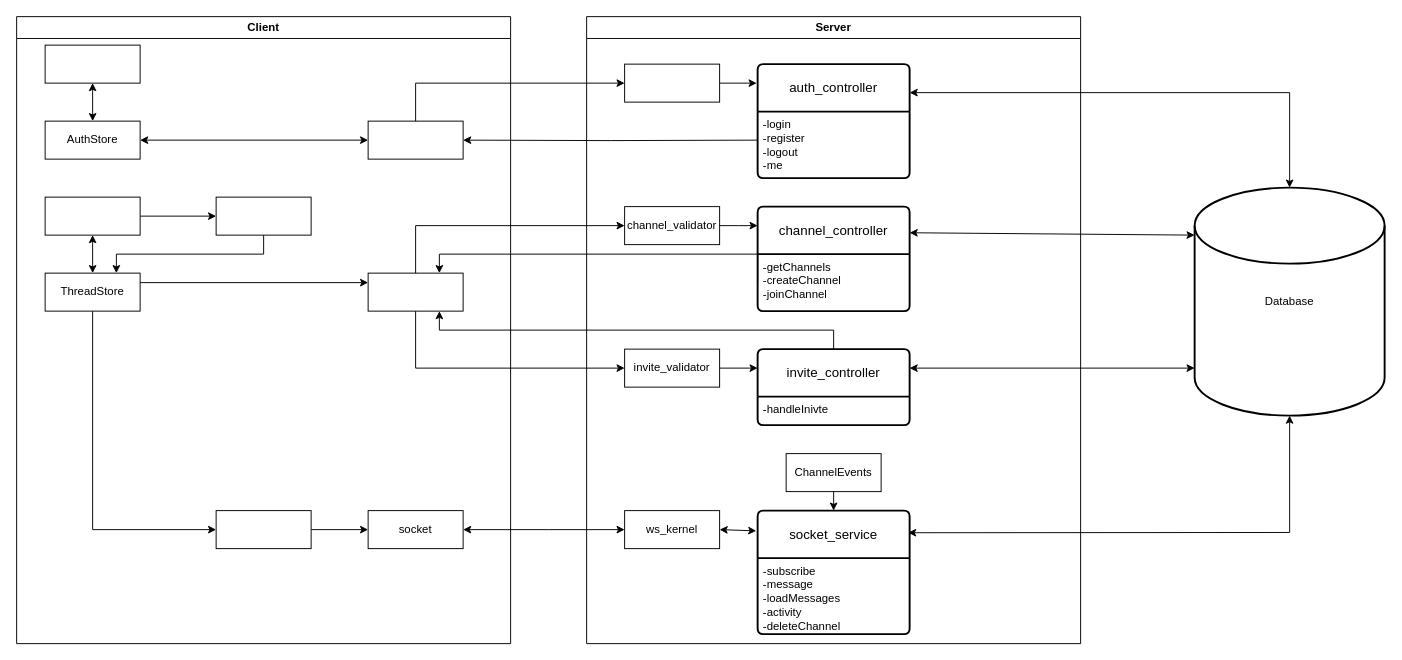
Image size: 1402x660. Some labels were removed from this diagram. The centre of each missing label's shape, as x and y in pixels:
auth_validator: (x=672, y=82)
AuthLayout: (x=92, y=63)
AuthService: (x=415, y=139)
CommandHandler: (x=263, y=215)
HomeService: (x=415, y=291)
MainLayout: (x=92, y=215)
SocketService: (x=263, y=529)
